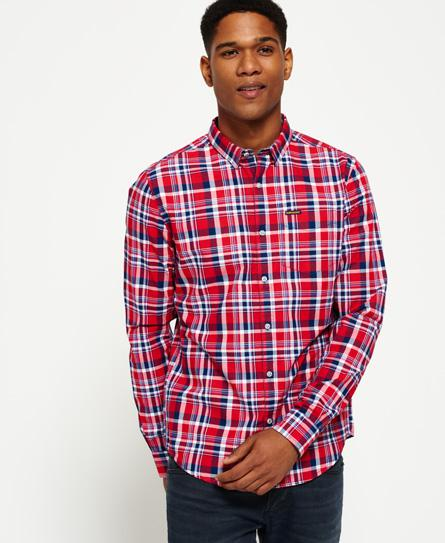teeshirt: (112, 114, 390, 498)
